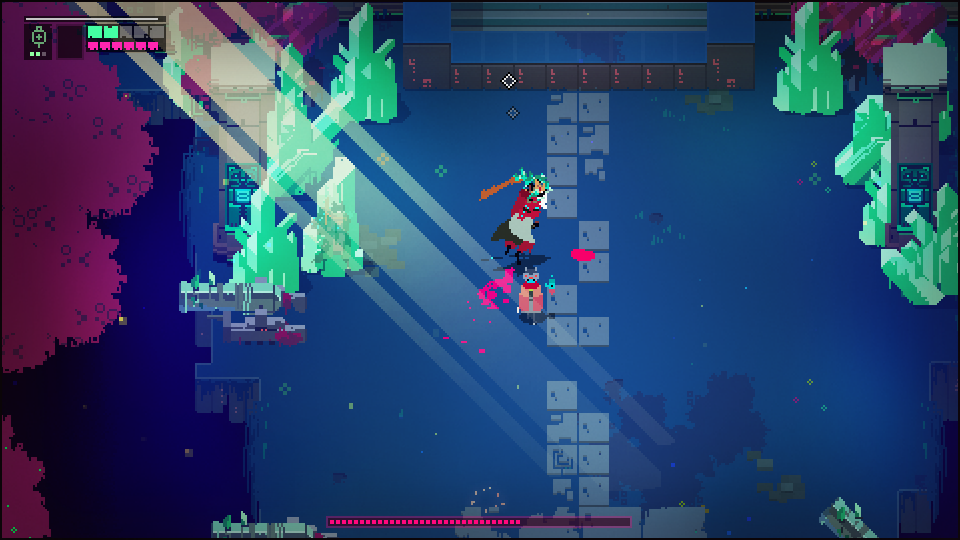hanged_man: (478, 167, 553, 266)
player: (515, 263, 547, 325)
